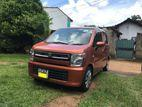car: (28, 27, 110, 92)
